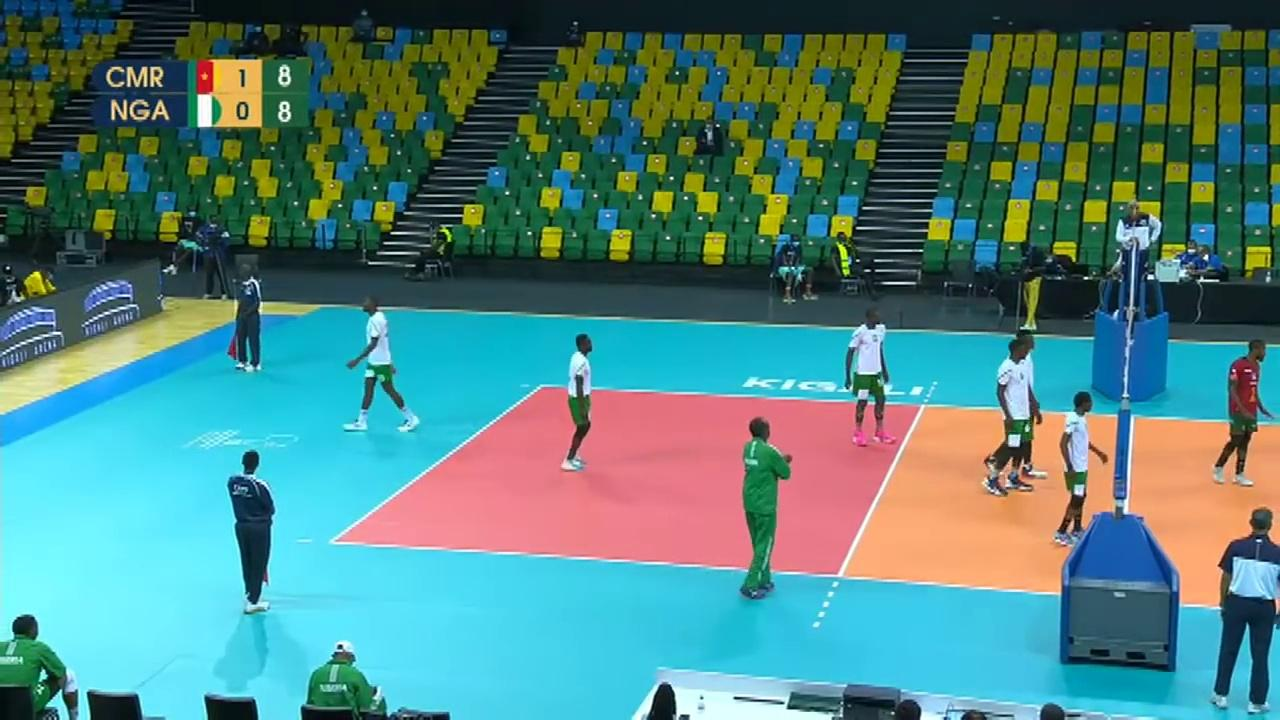player: (341, 300, 421, 428), (1213, 343, 1274, 486), (1055, 392, 1112, 545), (986, 340, 1040, 493), (844, 309, 890, 446), (1011, 324, 1051, 481), (560, 338, 595, 470)
refree: (1211, 508, 1278, 712), (228, 453, 280, 608), (1101, 191, 1161, 316), (234, 269, 264, 371)
